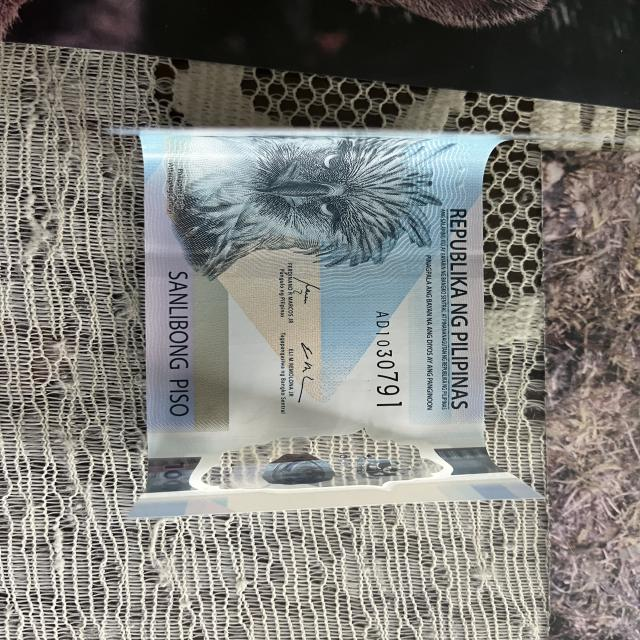clear_window: (168, 427, 446, 499)
eagle: (156, 128, 426, 264)
security_thread: (135, 244, 481, 282)
serial_number: (367, 308, 406, 412)
value_watermark: (157, 458, 190, 494)
